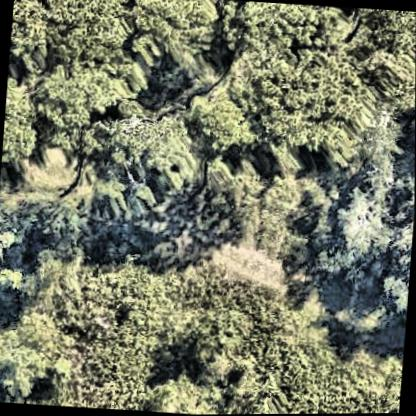tree-top: (189, 35, 377, 164), (82, 101, 195, 215), (35, 58, 138, 128), (0, 311, 81, 399), (124, 0, 219, 75), (41, 0, 136, 72), (168, 292, 253, 371), (329, 186, 404, 272), (227, 0, 341, 46), (356, 105, 412, 190), (150, 363, 231, 415), (1, 68, 41, 172), (9, 0, 56, 67), (0, 260, 26, 295)
